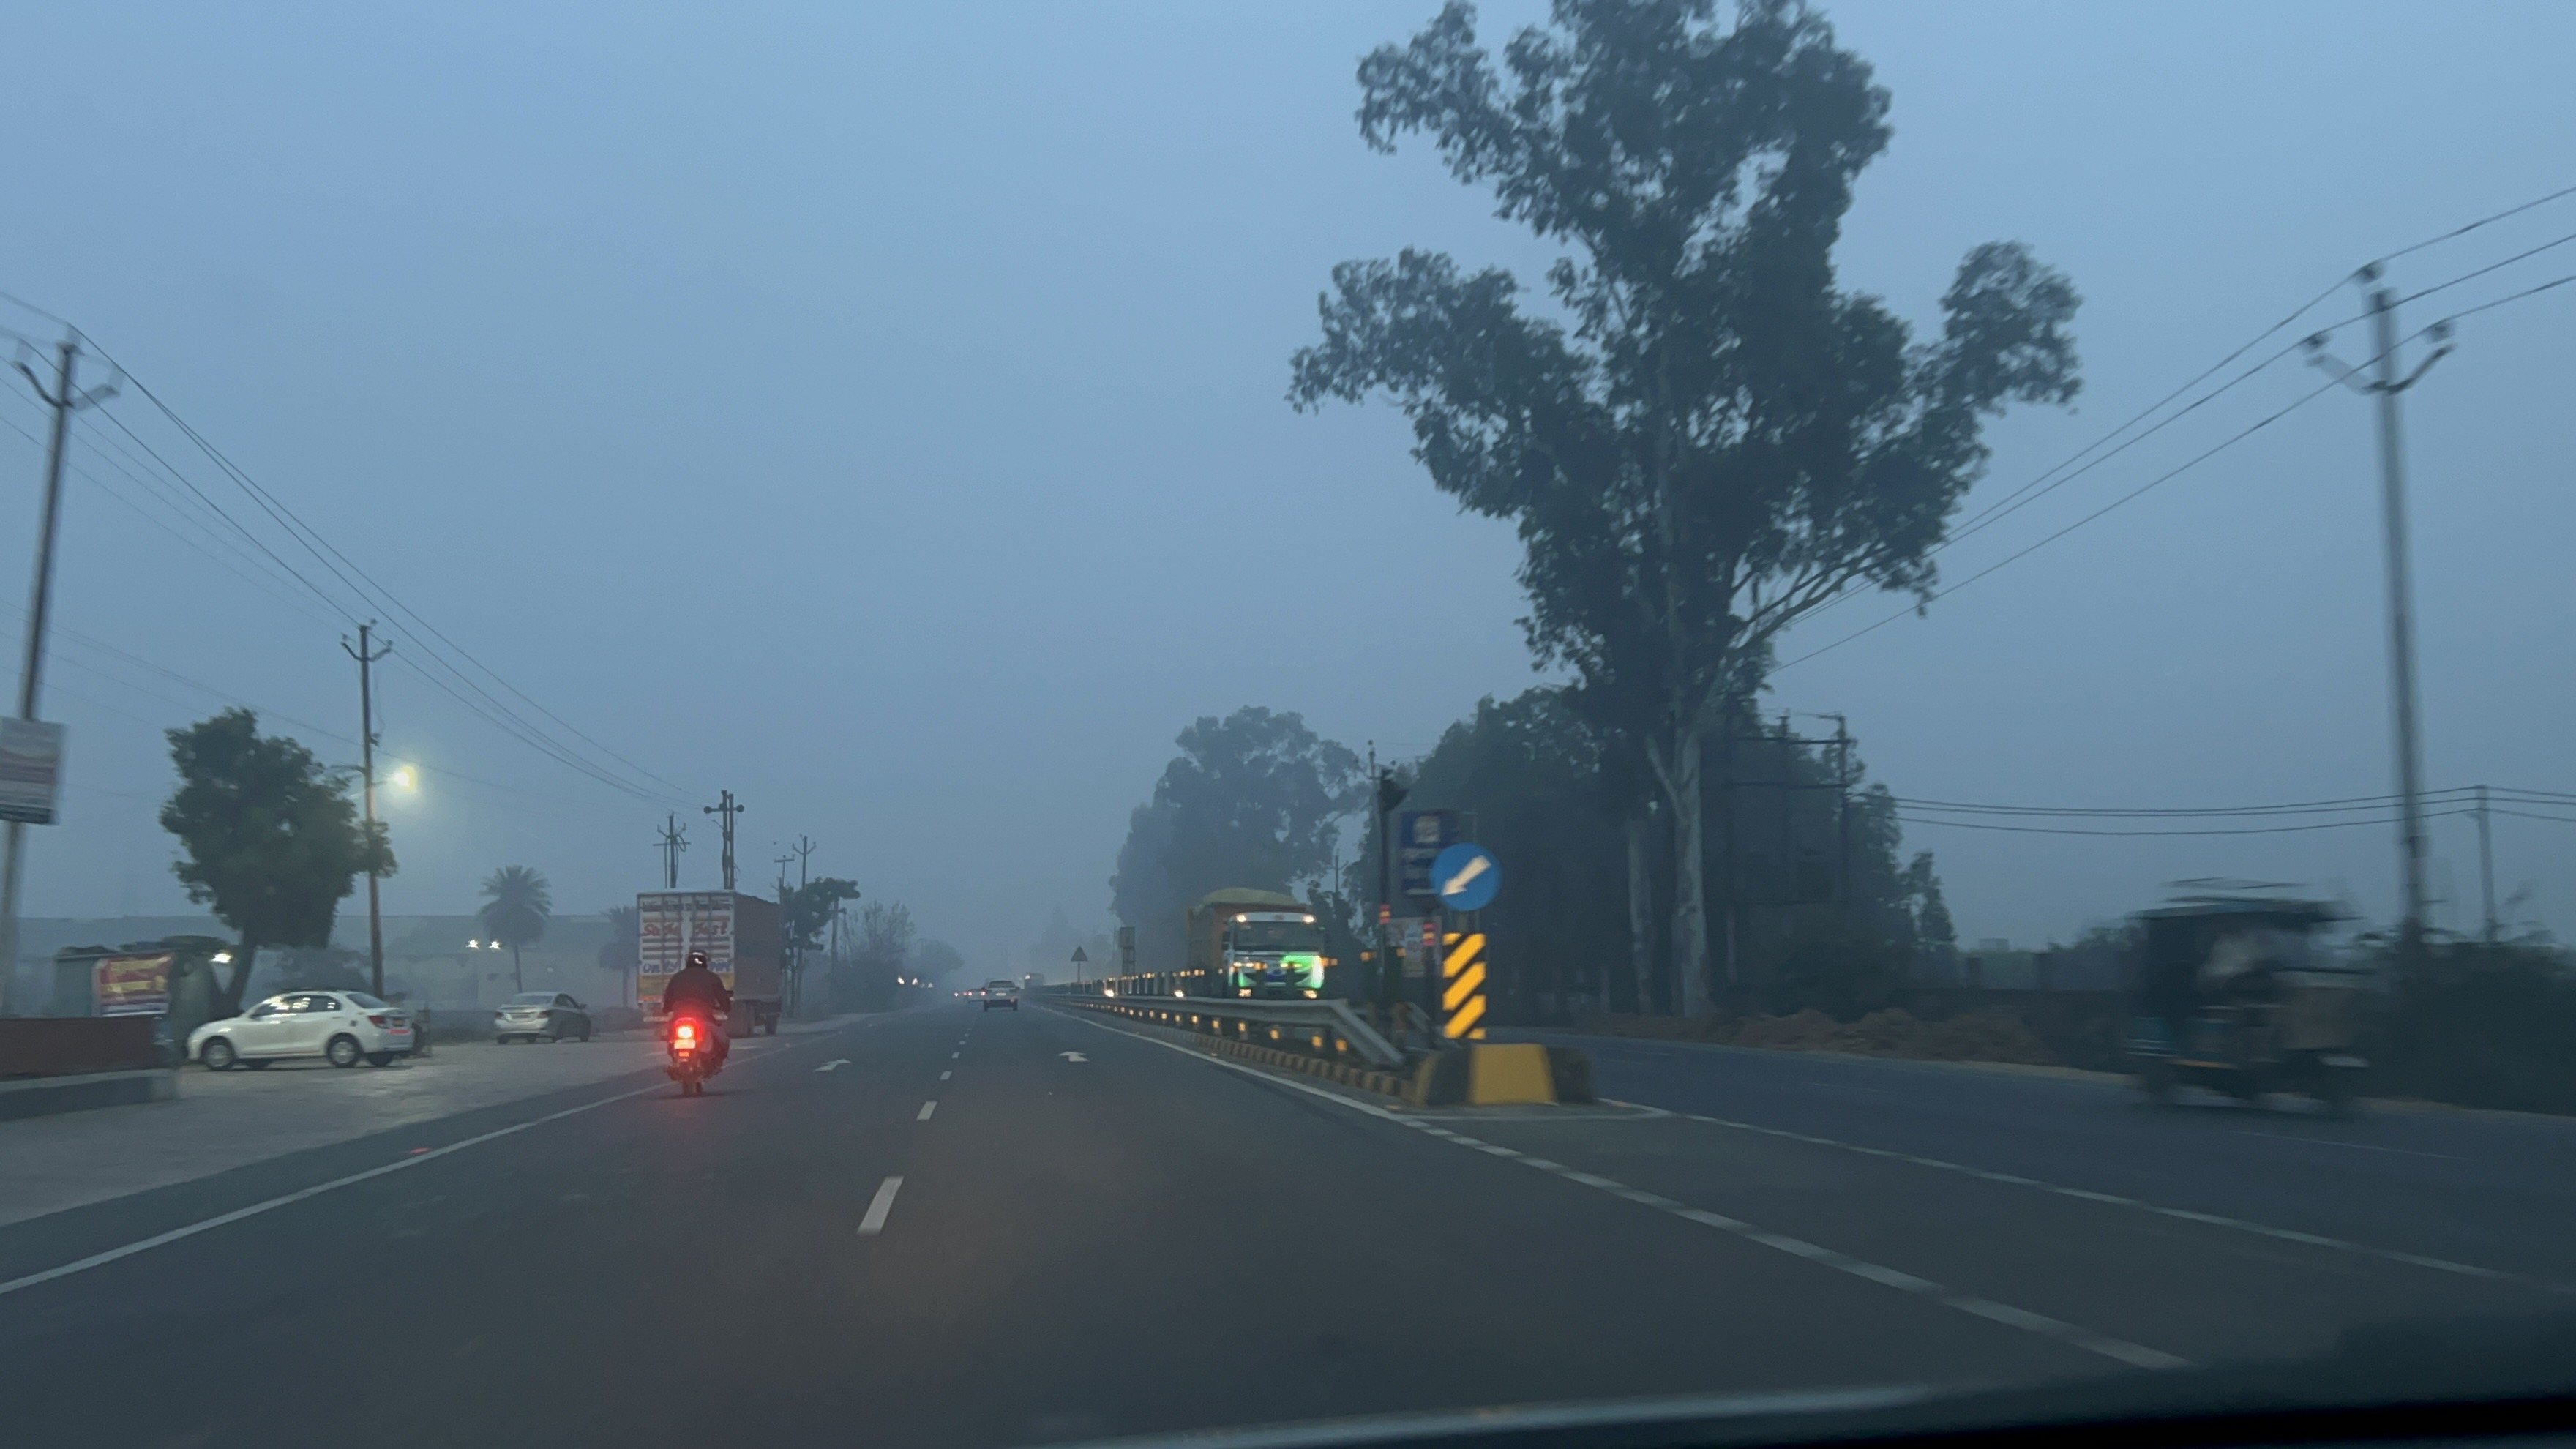General: (1434, 931, 1495, 1046)
Regulatory: (1426, 834, 1508, 919)
